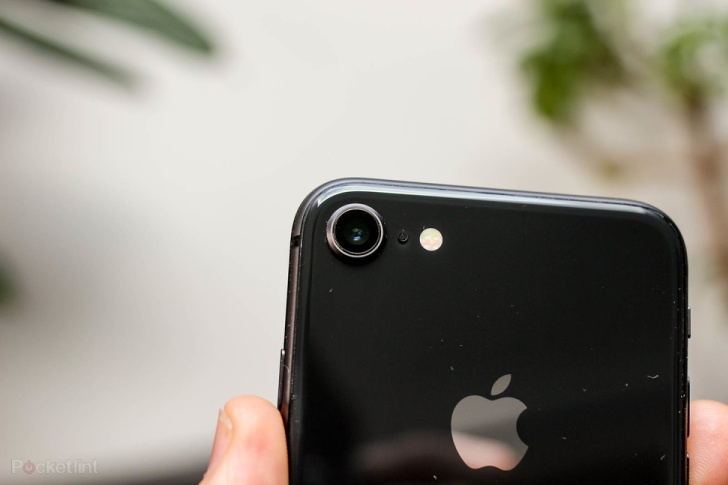apple: (440, 354, 557, 481)
